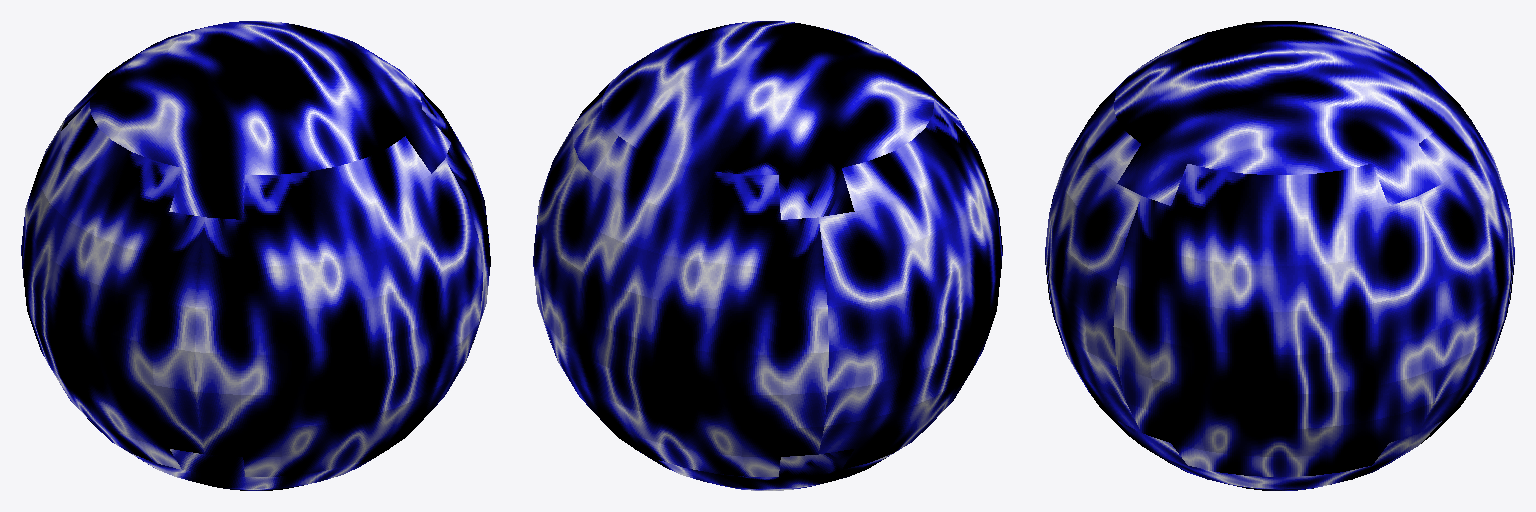
3 renders of one model, left to right at view 1: azimuth 30°, elevation 25°; view 2: azimuth 150°, elevation 25°; view 3: azimuth 270°, elevation 25°, orthographic.
Parts seen in each view (by area): view 1: Sphere; view 2: Sphere; view 3: Sphere.
Part boxes in pixels (bbox=[...]): Sphere: bbox=[21, 21, 490, 490]; Sphere: bbox=[533, 21, 1002, 490]; Sphere: bbox=[1045, 21, 1514, 490].
Size of the model in its own units: 1 by 1 by 1.
Materials: 1 (1 with a texture image).